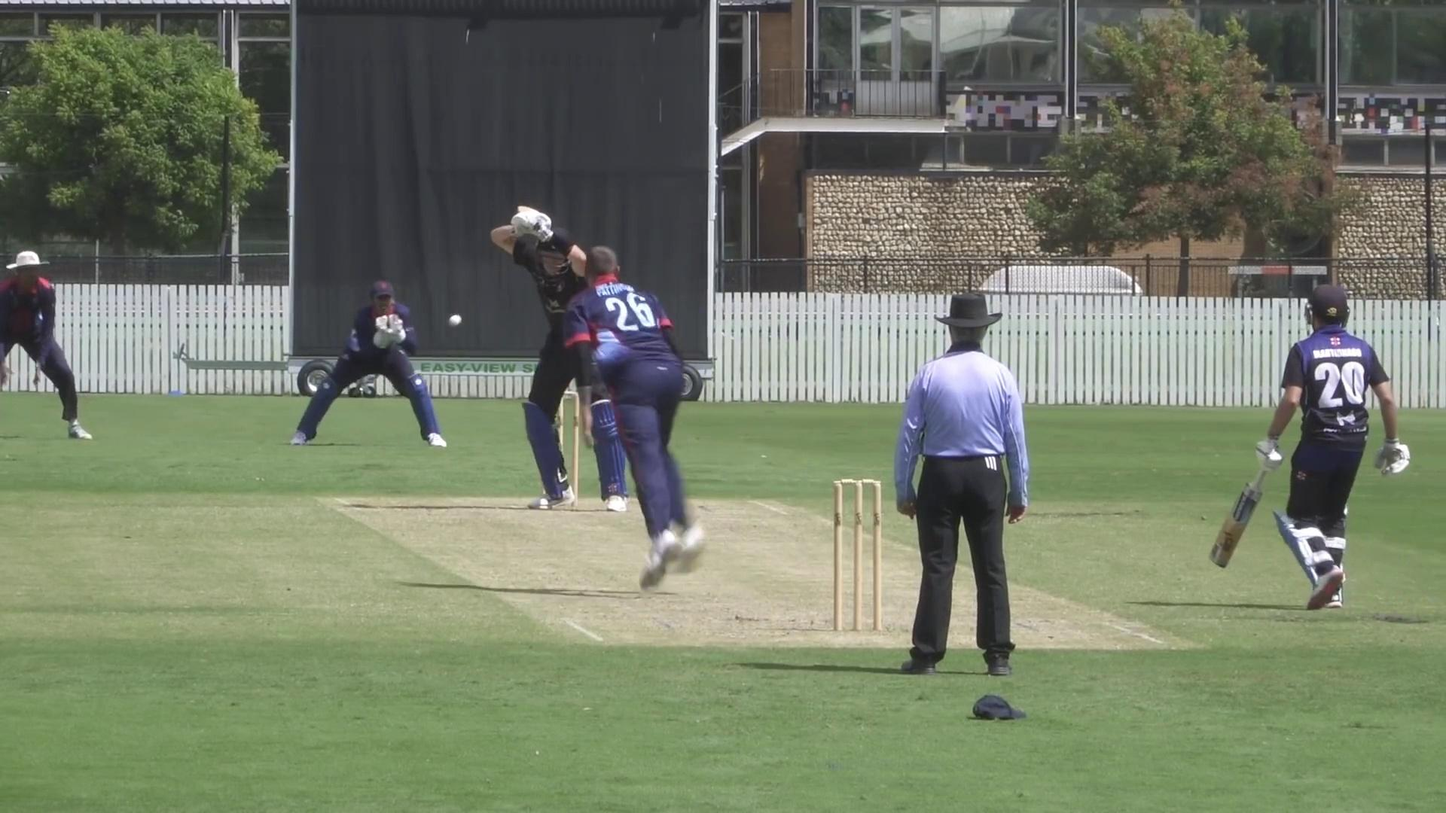ball: (446, 311, 466, 331)
